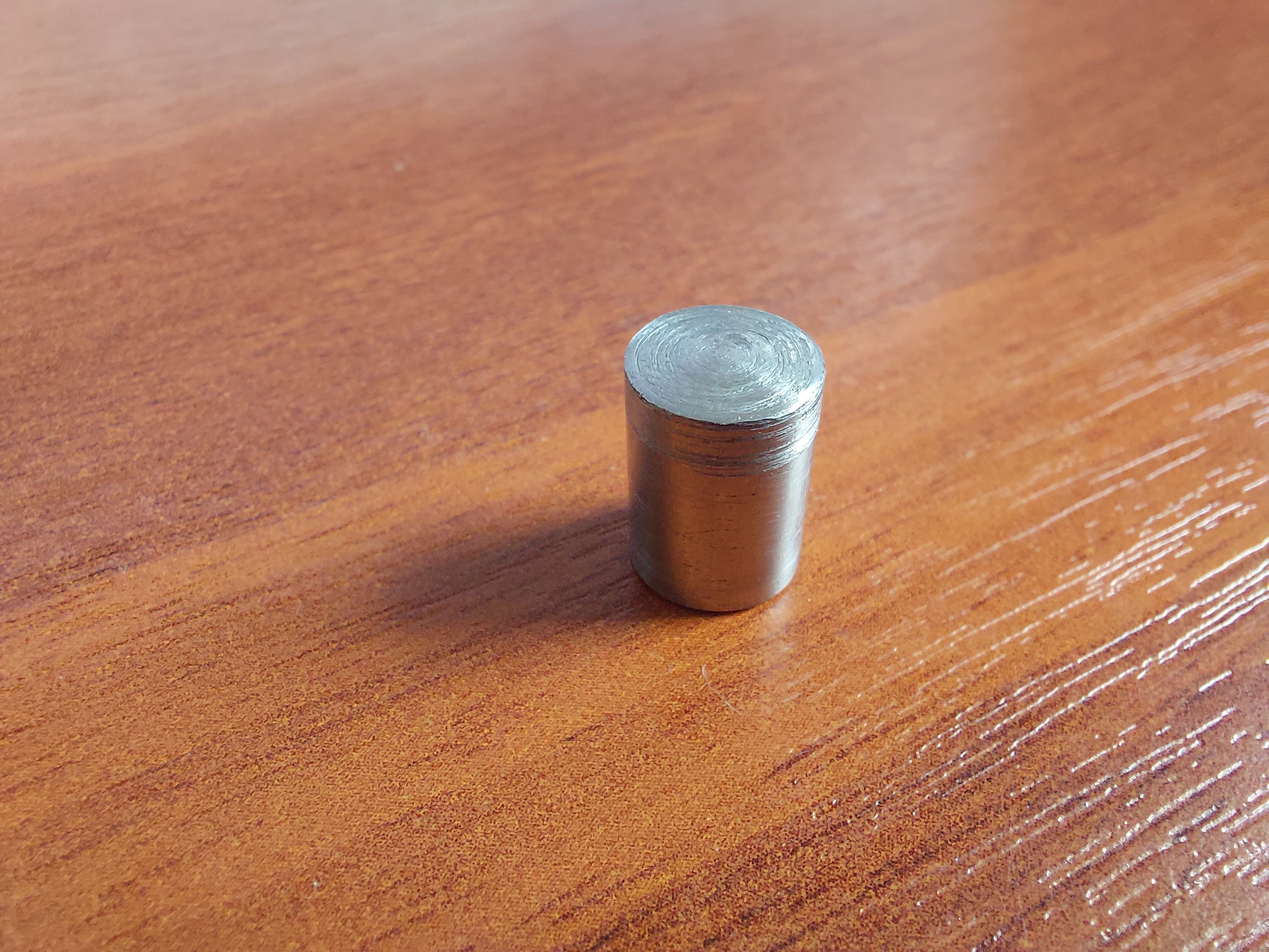tablet: (627, 293, 827, 615)
